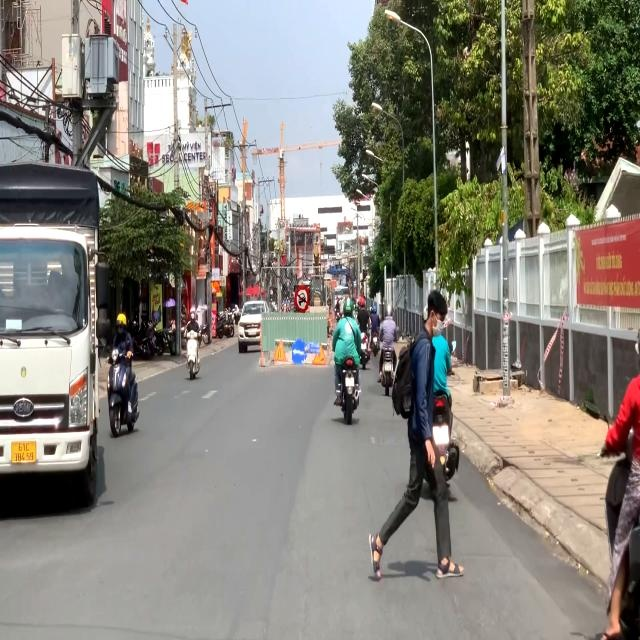bien_cam: (294, 285, 310, 313), (292, 338, 307, 364), (312, 343, 328, 366), (274, 338, 288, 363)
